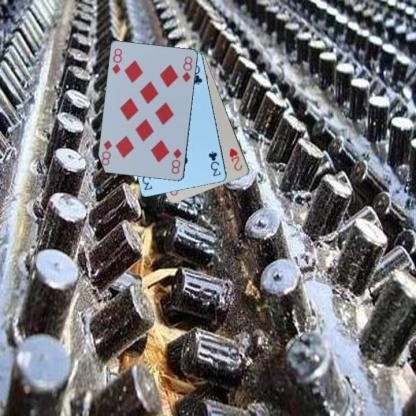2h: (226, 146, 244, 172)
3c: (206, 148, 222, 178)
8d: (110, 46, 124, 76), (169, 146, 183, 175)
